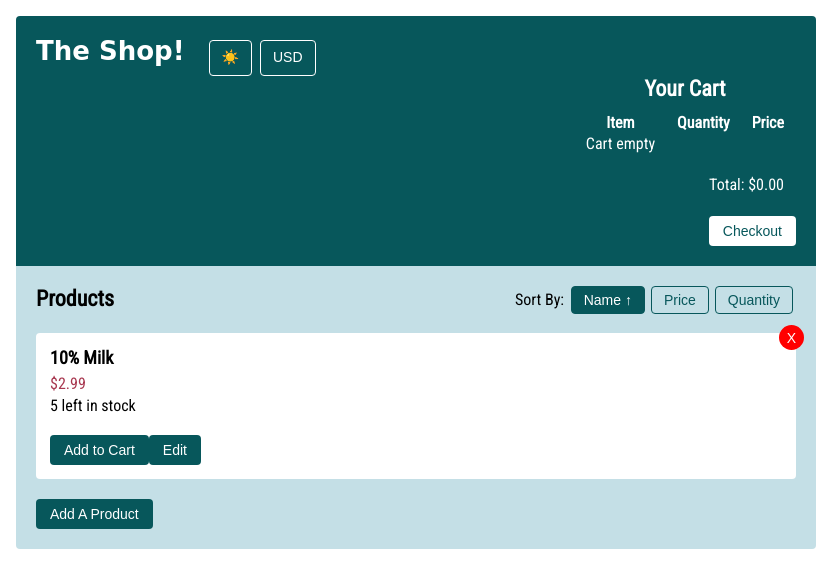
Scenario: adds an item to the cart on button click
Click the button "Add to Cart". click: (99, 450)
box: [50,435,149,465]
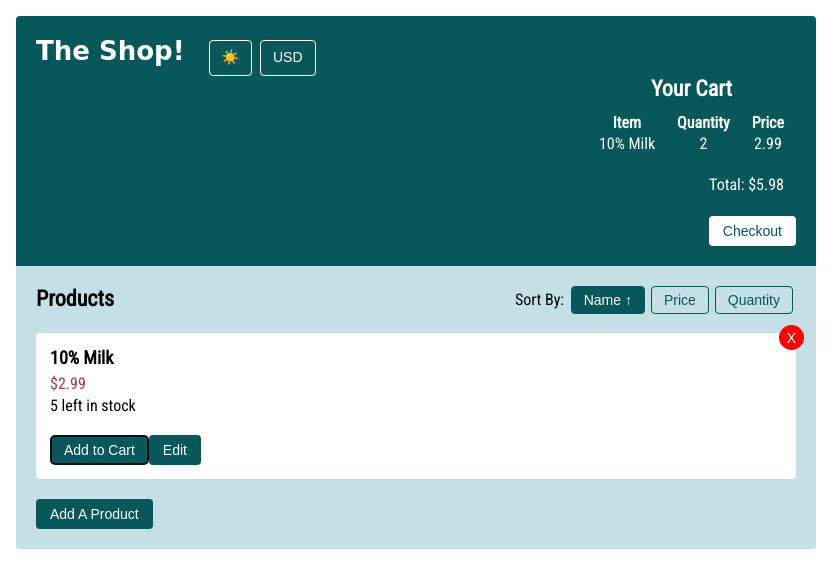
Now the cell "10% Milk" is shown, box [589,134,665,153]
